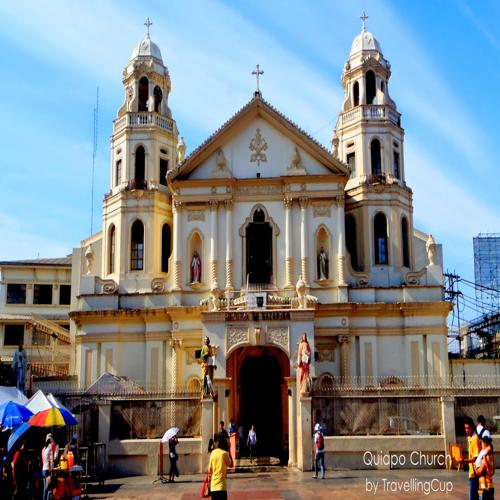Quiapo Church: (66, 4, 454, 427)
